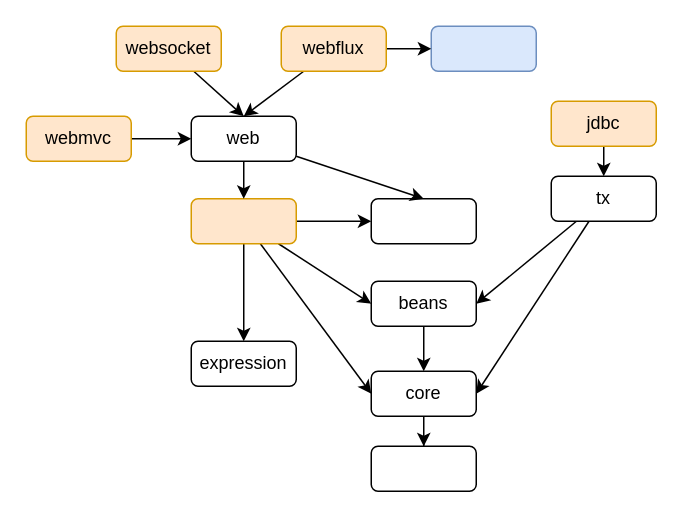
The diagram is 683 pixels wide and 518 high, and some of its shapes have lost their labels. The box of each missing label's shape, as (x1, y1, x2, y2) in pixels:
aop: (370, 197, 476, 244)
context: (190, 197, 296, 244)
jcl: (370, 445, 476, 491)
reactor-core: (430, 25, 536, 71)
